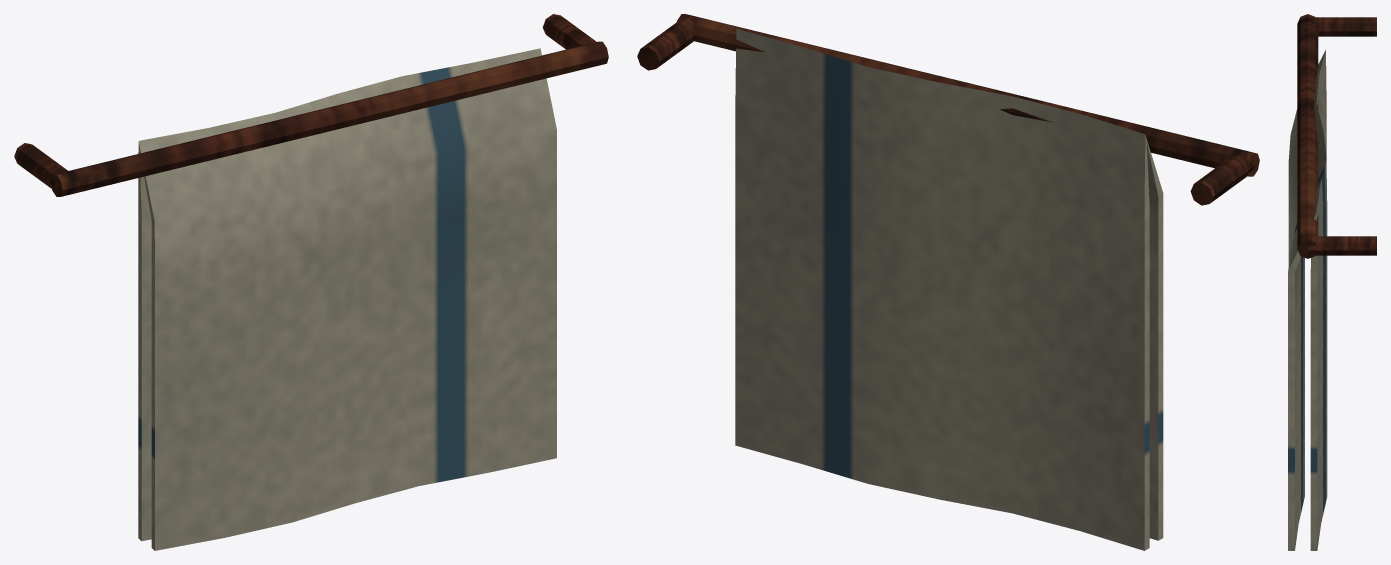
The model's file is Towel_Rail.fbx.
The picture shows the model from 3 angles, left to right: view 1: azimuth 30°, elevation 25°; view 2: azimuth 150°, elevation 25°; view 3: azimuth 270°, elevation 25°; orthographic projection. The views are drawn at different scales.
Visible parts, largest first — view 1: Towel_Rail; view 2: Towel_Rail; view 3: Towel_Rail.
Part boxes in pixels (x1,y1,x2,y2): Towel_Rail: [14, 14, 608, 550]; Towel_Rail: [637, 14, 1259, 550]; Towel_Rail: [1288, 14, 1376, 550].
Bounding box in the file's own units: 0.624 × 0.4314 × 0.1029.
